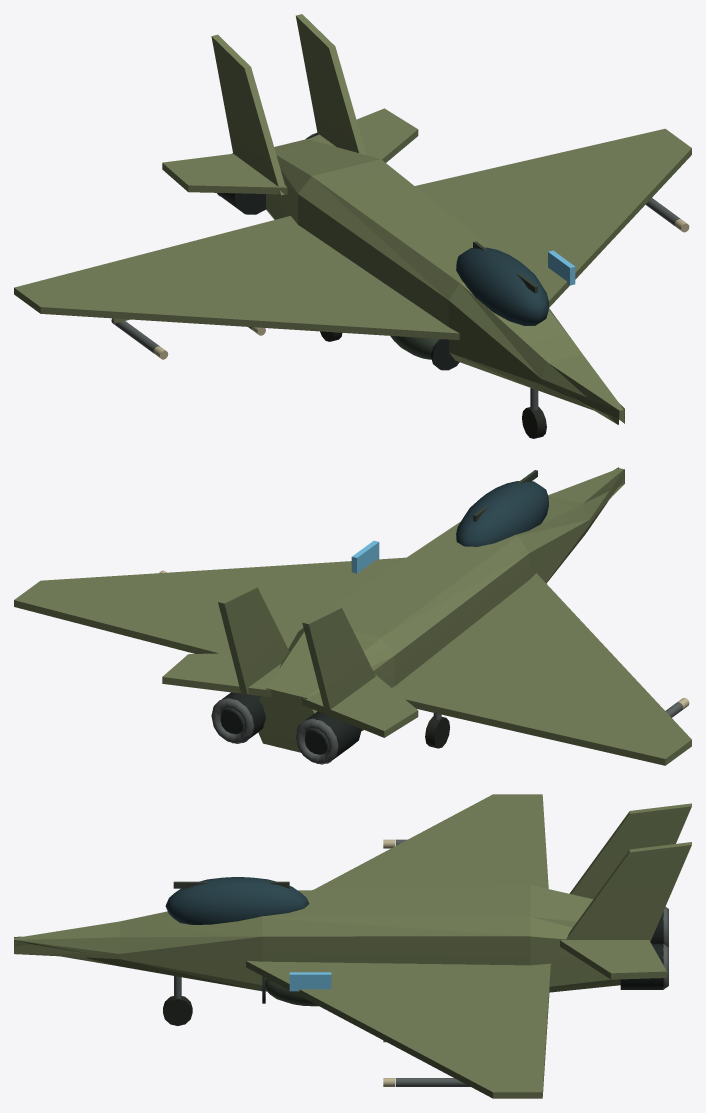
File: attackAircraft.glb
3 views of the same model, one above another, from view 1: azimuth 30°, elevation 25°; view 2: azimuth 150°, elevation 25°; view 3: azimuth 270°, elevation 25° (orthographic). The views are drawn at different scales.
Visible parts, largest first — view 1: armor, glass, equipment (×2); view 2: armor, equipment (×2), glass, marking; view 3: armor, glass, equipment (×2), marking.
Part boxes in pixels (x1,y1,x2,y2): armor: [14, 14, 691, 424]; glass: [456, 247, 548, 325]; equipment (×2): [111, 133, 689, 438]; armor: [14, 467, 691, 765]; equipment (×2): [159, 470, 689, 764]; glass: [456, 481, 548, 546]; marking: [351, 540, 379, 573]; armor: [14, 794, 691, 1098]; glass: [165, 877, 309, 924]; equipment (×2): [163, 839, 668, 1086]; marking: [289, 972, 331, 991].
Size of the model in its own units: 8.5 by 2.64 by 8.17.
